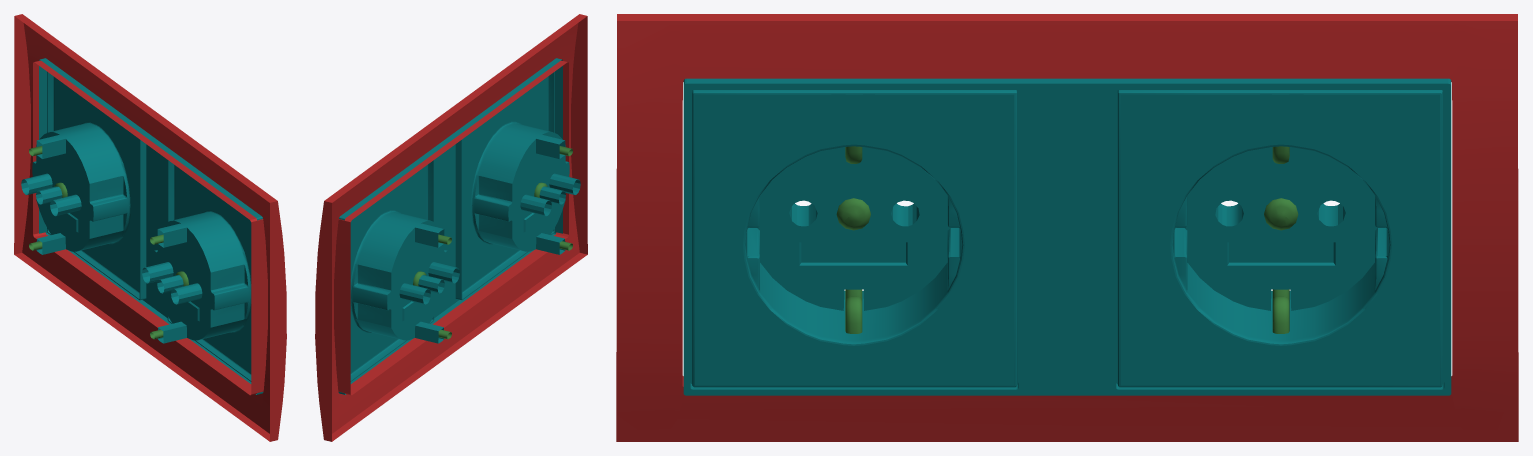
The model's file is SM_Socket_031.fbx.
3 renders of one model, left to right at view 1: azimuth 30°, elevation 25°; view 2: azimuth 150°, elevation 25°; view 3: azimuth 270°, elevation 25°, orthographic. The views are drawn at different scales.
Visible parts, largest first — view 1: SM_Socket_031; view 2: SM_Socket_031; view 3: SM_Socket_031.
Part boxes in pixels (left/top/right/bottom): SM_Socket_031: left=14, top=14, right=286, bottom=441; SM_Socket_031: left=315, top=14, right=587, bottom=441; SM_Socket_031: left=616, top=14, right=1518, bottom=441.
Size of the model in its own units: 2.51 by 8.35 by 16.22.
